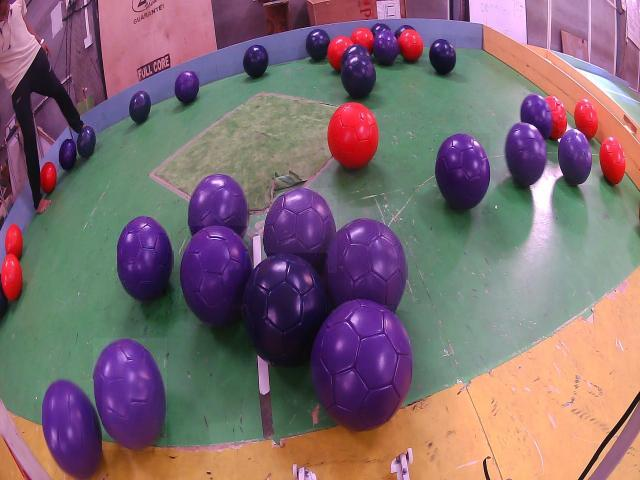jambhalya: (312, 300, 412, 430), (93, 338, 167, 450), (325, 218, 407, 312), (180, 226, 252, 326), (263, 189, 337, 273), (43, 380, 102, 478), (117, 216, 173, 300), (435, 134, 490, 210), (188, 174, 248, 238), (505, 121, 546, 186), (558, 128, 592, 185), (520, 93, 552, 140), (374, 30, 399, 65), (175, 72, 200, 104)
kaalyya: (242, 253, 328, 367), (342, 54, 376, 98), (429, 38, 456, 75), (243, 45, 269, 78), (306, 30, 330, 61), (129, 90, 151, 123), (77, 125, 97, 158), (60, 140, 77, 170)
